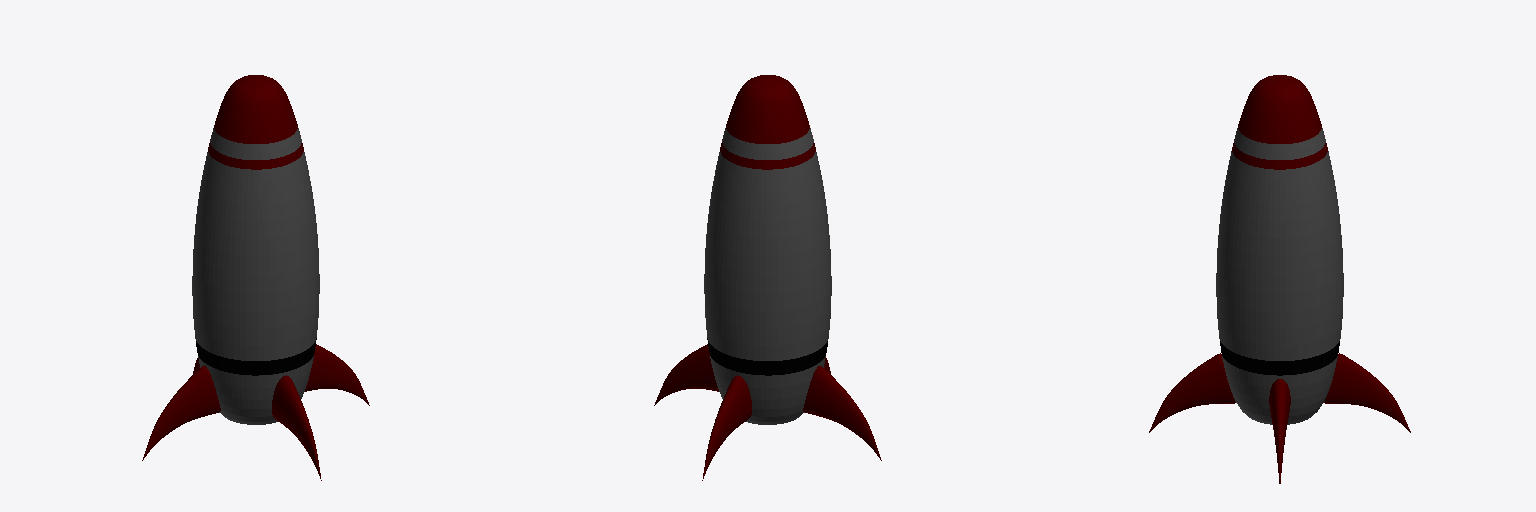
The model's file is rocket.obj.
3 views of the same model, side by side, from view 1: azimuth 30°, elevation 25°; view 2: azimuth 150°, elevation 25°; view 3: azimuth 270°, elevation 25° (orthographic).
Parts seen in each view (by area): view 1: Cube.005; view 2: Cube.005; view 3: Cube.005.
Boxes of the visible parts, <box> form: Cube.005: <box>142,75,369,480</box>; Cube.005: <box>654,75,881,480</box>; Cube.005: <box>1149,75,1410,483</box>.
Bounding box in the file's own units: 3.26 × 4.85 × 3.26.